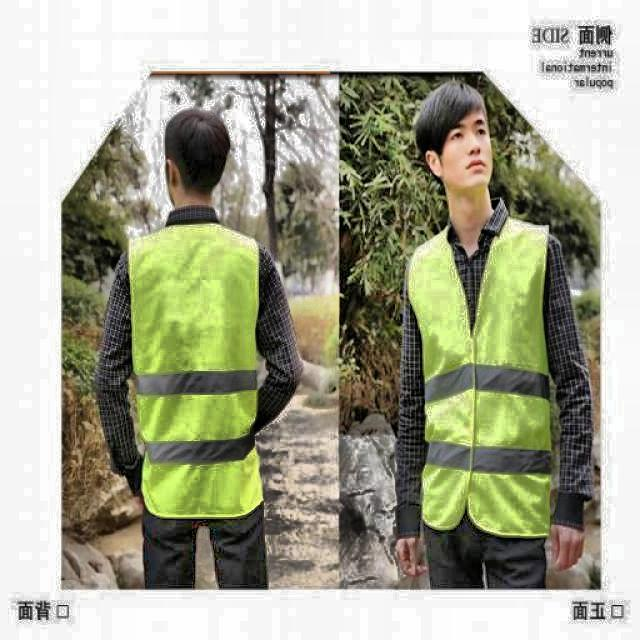safety_jacket: (406, 221, 556, 537), (130, 227, 266, 518)
